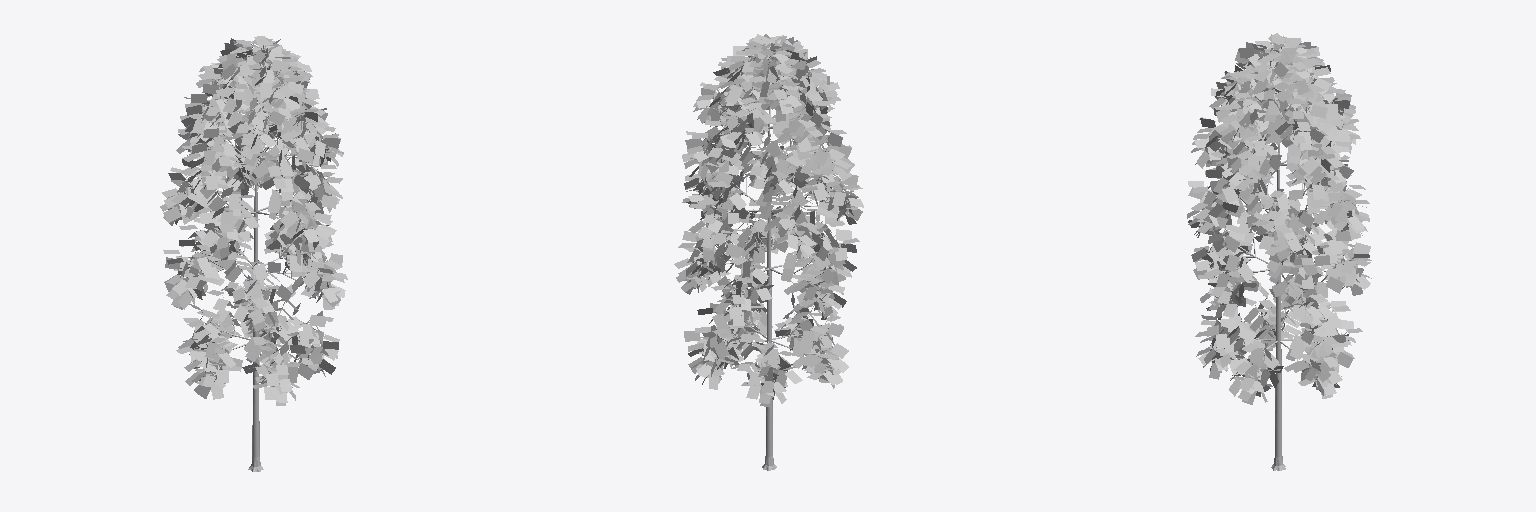
The model's file is BeSkinny.obj.
3 views of the same model, side by side, from view 1: azimuth 30°, elevation 25°; view 2: azimuth 150°, elevation 25°; view 3: azimuth 270°, elevation 25° (orthographic).
Parts seen in each view (by area): view 1: BeSkinny2, BeSkinny9, BeSkinny7; view 2: BeSkinny2, BeSkinny9, BeSkinny7; view 3: BeSkinny2, BeSkinny9.
Part boxes in pixels (x1,y1,x2,y2): BeSkinny2: (160,36,347,405); BeSkinny9: (248,184,263,471); BeSkinny7: (181,44,329,372); BeSkinny2: (674,34,863,407); BeSkinny9: (762,59,776,470); BeSkinny7: (693,43,848,372); BeSkinny2: (1187,33,1371,404); BeSkinny9: (1271,144,1285,470).
Bounding box in the file's own units: 24.31 × 59.91 × 23.93.